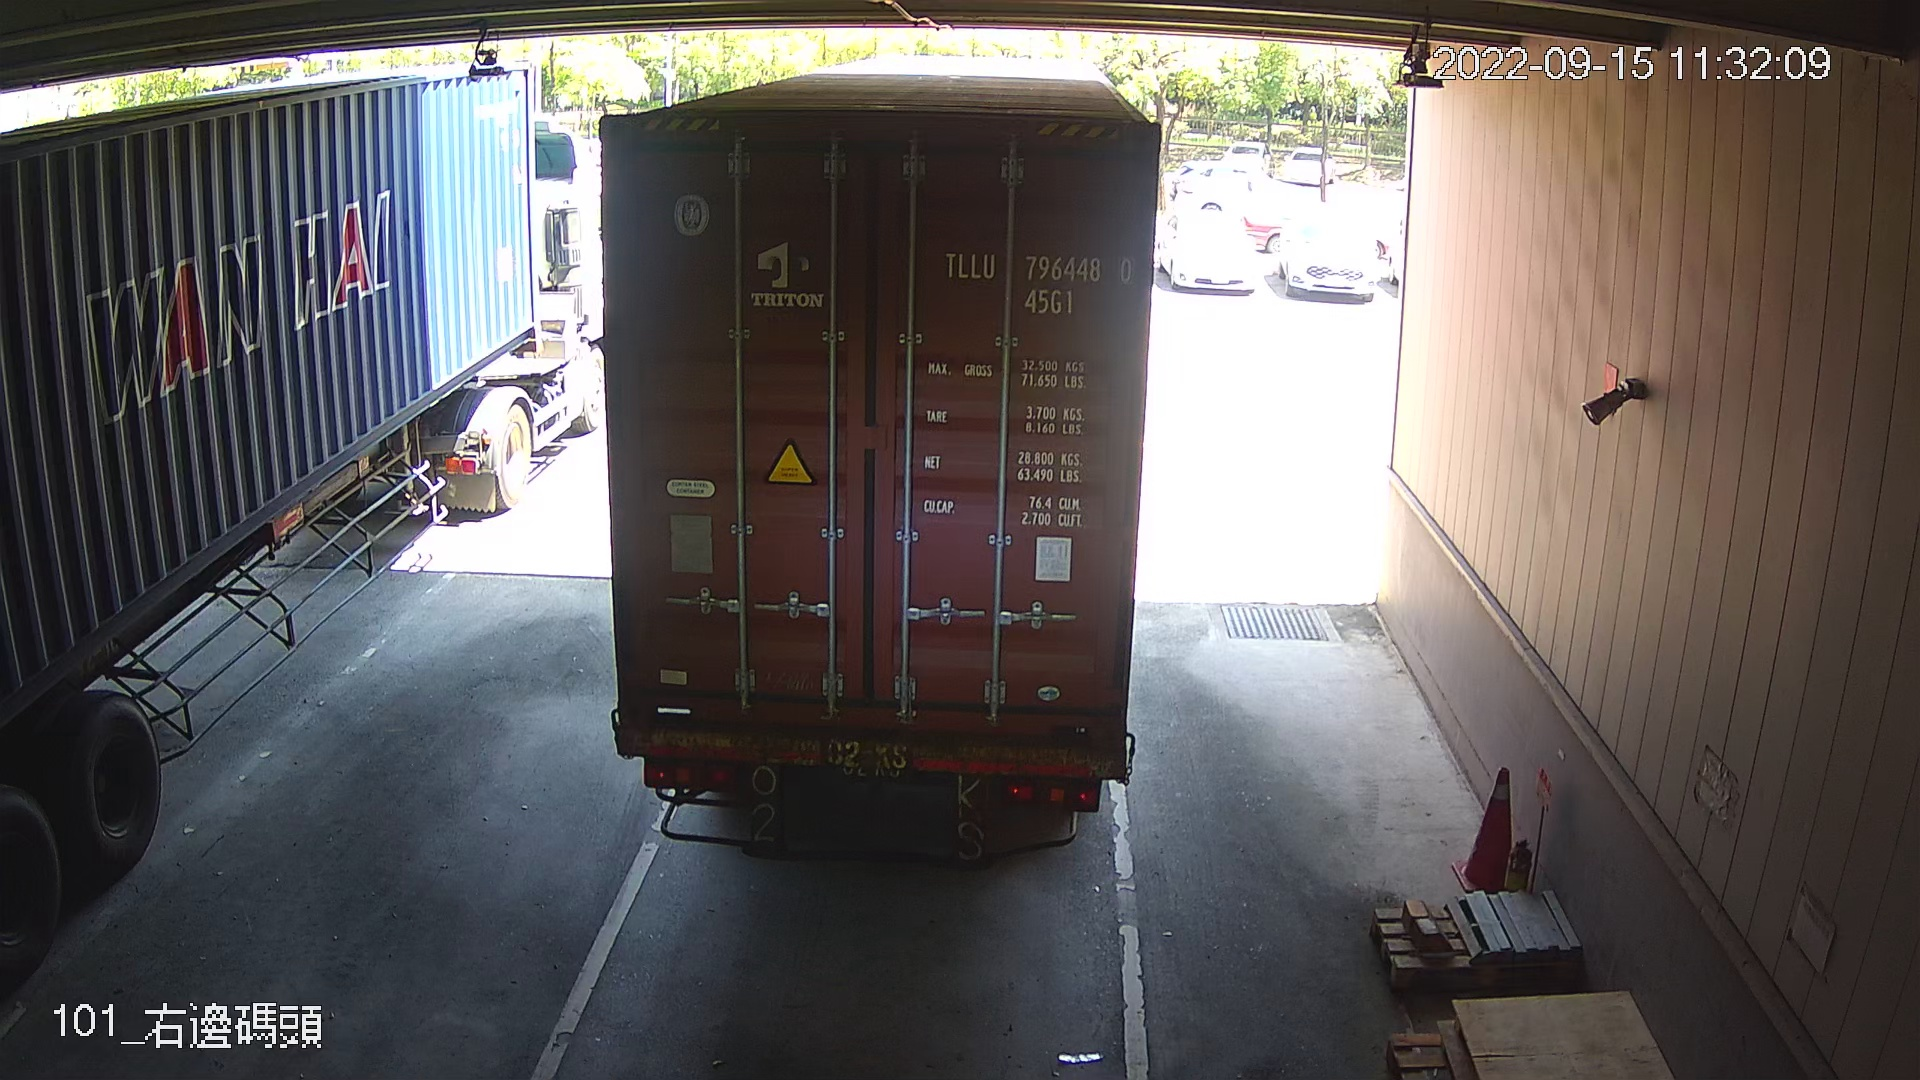container: (938, 241, 1139, 323)
